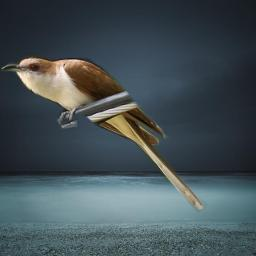Cuckoo: (1, 55, 208, 213)
